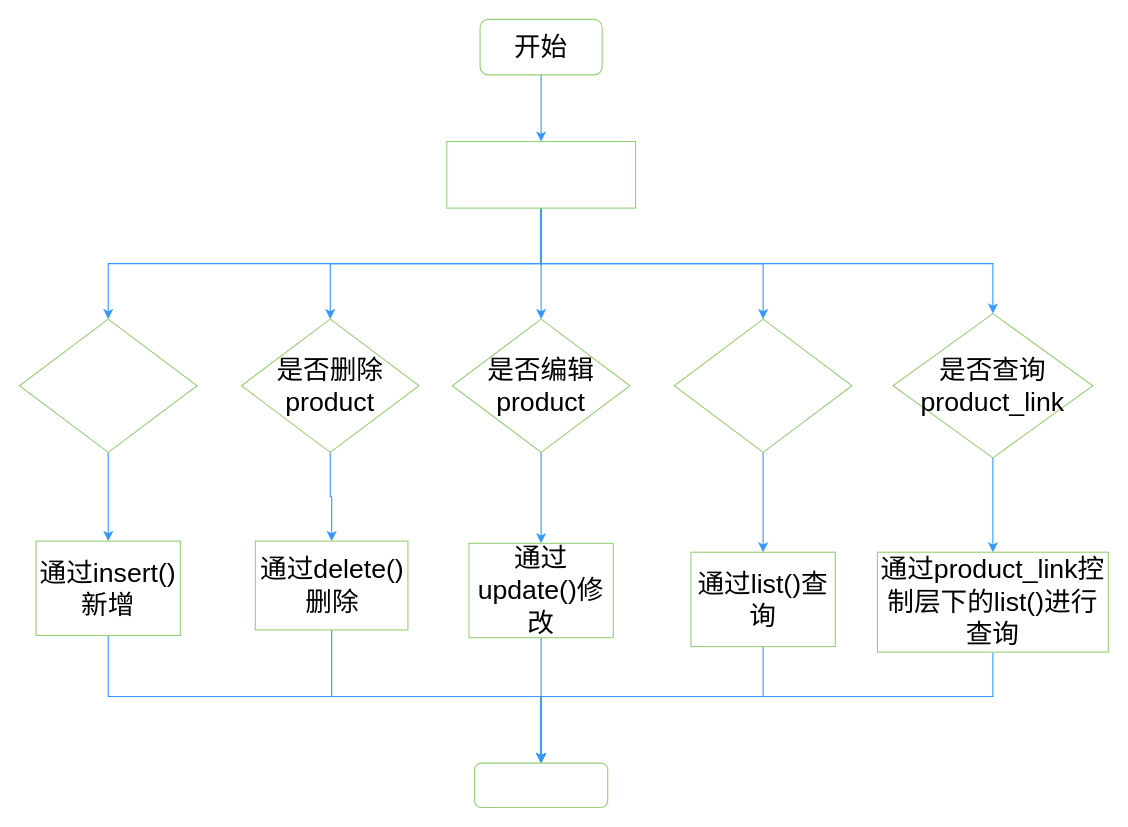
This 1128x827 diagram has some shape labels left out. The centre of each missing label's shape, as x and y in pixels:
是否新增product: the point at 107,385
是否查询product: the point at 762,385
结束: the point at 540,785
选择“产品管理” ->“产品列表”: the point at 540,174
